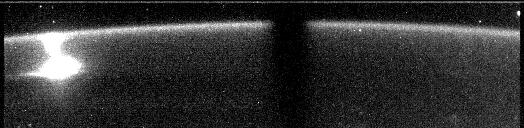positive: (39, 31, 68, 59)
